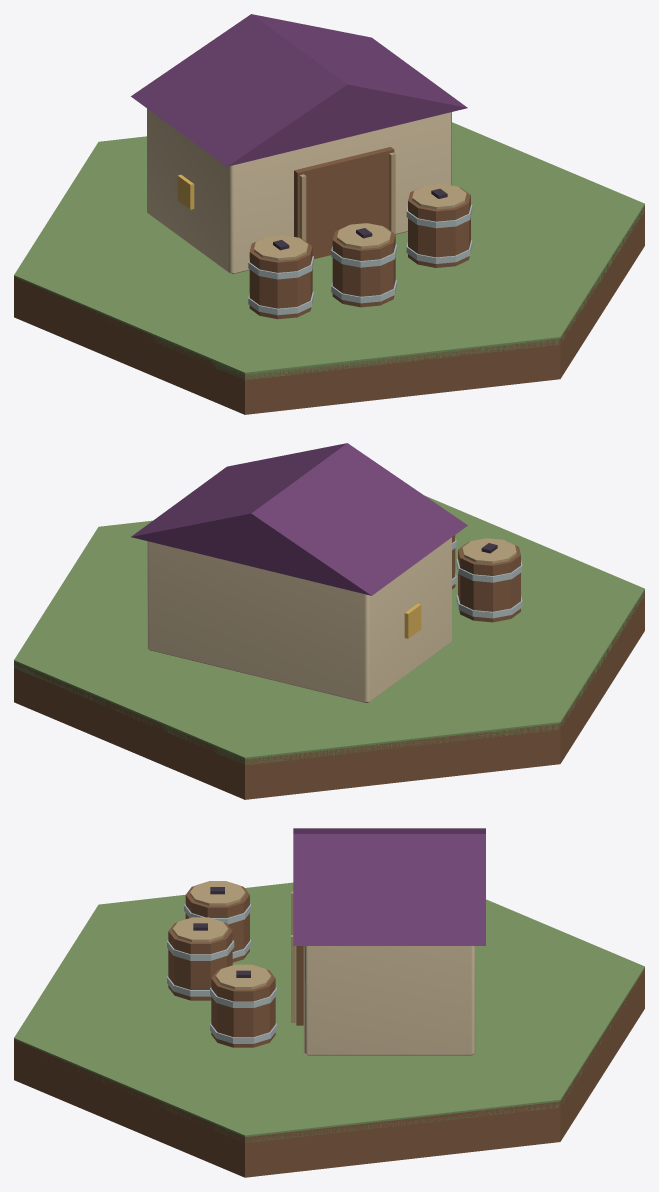
The model's file is warehouse.glb.
3 renders of one model, top to bottom at view 1: azimuth 30°, elevation 25°; view 2: azimuth 150°, elevation 25°; view 3: azimuth 270°, elevation 25°, orthographic.
Parts seen in each view (by area): view 1: Cone.129, gable.005, Cone.128, Cube.031, Cube.034, Cone.130, Cone.134, Cone.138, Cone.141, Cone.137, Cone.133; view 2: Cone.129, Cube.031, gable.005, Cone.128, Cone.130, Cone.133, Cone.131, Cone.132; view 3: Cone.129, Cone.128, gable.005, Cube.031, Cone.138, Cone.134, Cone.130, Cone.137, Cone.141, Cone.133, Cube.034, Cone.136 (+2 smaller).
Part boxes in pixels (x1,y1,x2,y2): Cone.129: (14, 122, 644, 380); gable.005: (131, 14, 467, 166); Cone.128: (14, 206, 644, 414); Cube.031: (147, 108, 451, 274); Cube.034: (294, 147, 394, 259); Cone.130: (249, 238, 312, 319); Cone.134: (332, 226, 395, 307); Cone.138: (408, 186, 470, 267); Cone.141: (412, 183, 466, 209); Cone.137: (337, 223, 391, 248); Cone.133: (254, 235, 308, 260); Cone.129: (14, 495, 644, 764); Cube.031: (147, 537, 451, 703); gable.005: (131, 443, 467, 595); Cone.128: (14, 591, 644, 799); Cone.130: (458, 542, 520, 622); Cone.133: (462, 538, 516, 563); Cone.131: (456, 595, 522, 618); Cone.132: (456, 559, 522, 582); Cone.129: (14, 882, 644, 1143); Cone.128: (14, 968, 644, 1177); gable.005: (293, 828, 485, 945); Cube.031: (303, 946, 475, 1055); Cone.138: (211, 969, 275, 1047); Cone.134: (168, 922, 232, 1000); Cone.130: (185, 886, 249, 962); Cone.137: (172, 917, 228, 942); Cone.141: (215, 964, 271, 989); Cone.133: (190, 881, 245, 905); Cube.034: (296, 946, 303, 1025); Cone.136: (167, 940, 234, 960).
Size of the model in its own units: 3.67 by 1.35 by 3.67.
